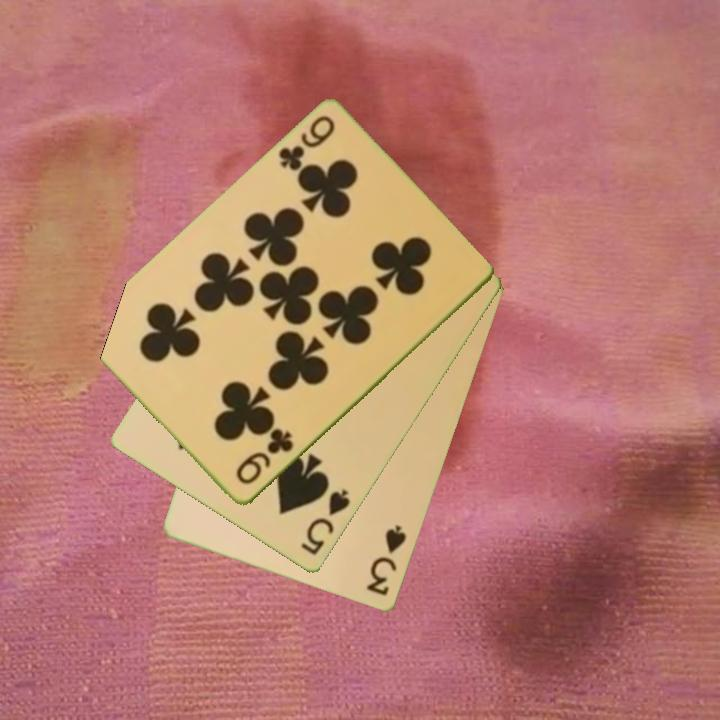3s: (363, 522, 410, 599)
5s: (297, 486, 354, 559)
9c: (232, 426, 297, 488), (275, 112, 338, 175)
